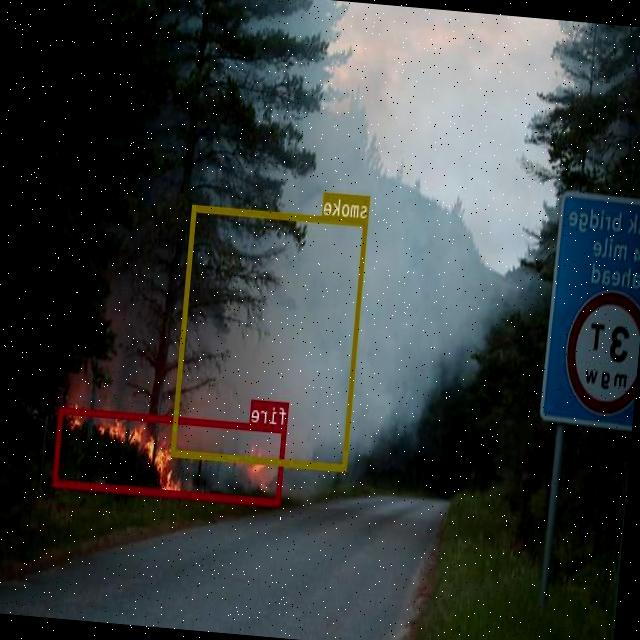fire: (52, 406, 288, 504)
smoke: (172, 203, 368, 470)
